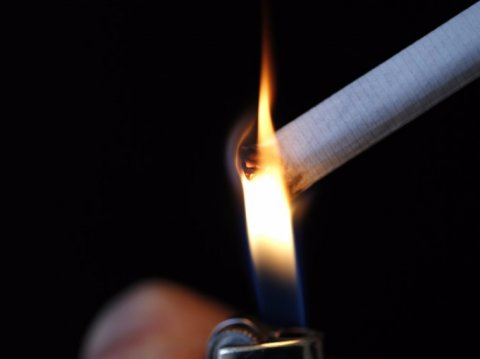cigarette: (210, 8, 480, 253)
